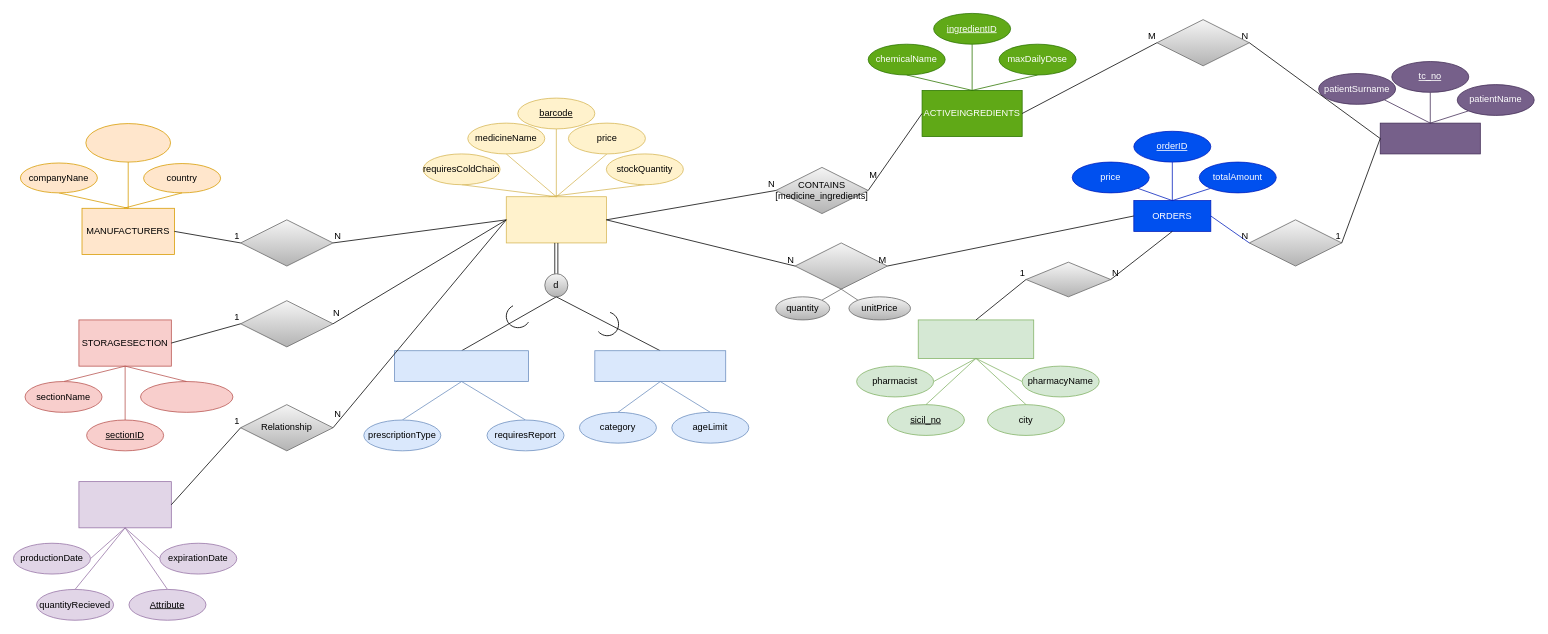
The diagram is 1548 pixels wide and 634 high, and some of its shapes have lost their labels. The shapes that lost their labels are listed below. From the top down, each one's centre as x and y in pixels, then its label:
the point at 1202,42: HAS_ALLERGY
the point at 128,142: manufacturerCode
the point at 1429,138: PATIENTS
the point at 556,219: MEDICINES
the point at 286,242: PRODUCES
the point at 1295,242: Prescribed_for
the point at 840,265: Includes [ORDERDETAIL]
the point at 1068,279: PLACES
the point at 286,323: Stored_In
the point at 975,338: PHARMACIES
the point at 461,366: PRESCIPTION_MEDICINE
the point at 660,366: OTCMEDICINES
the point at 186,396: currentTemperature
the point at 124,504: BATCHES
